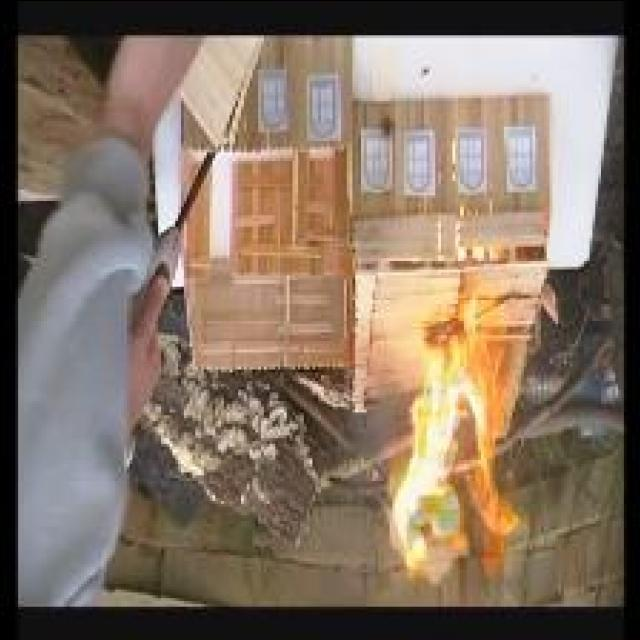Fire: (393, 293, 521, 581)
